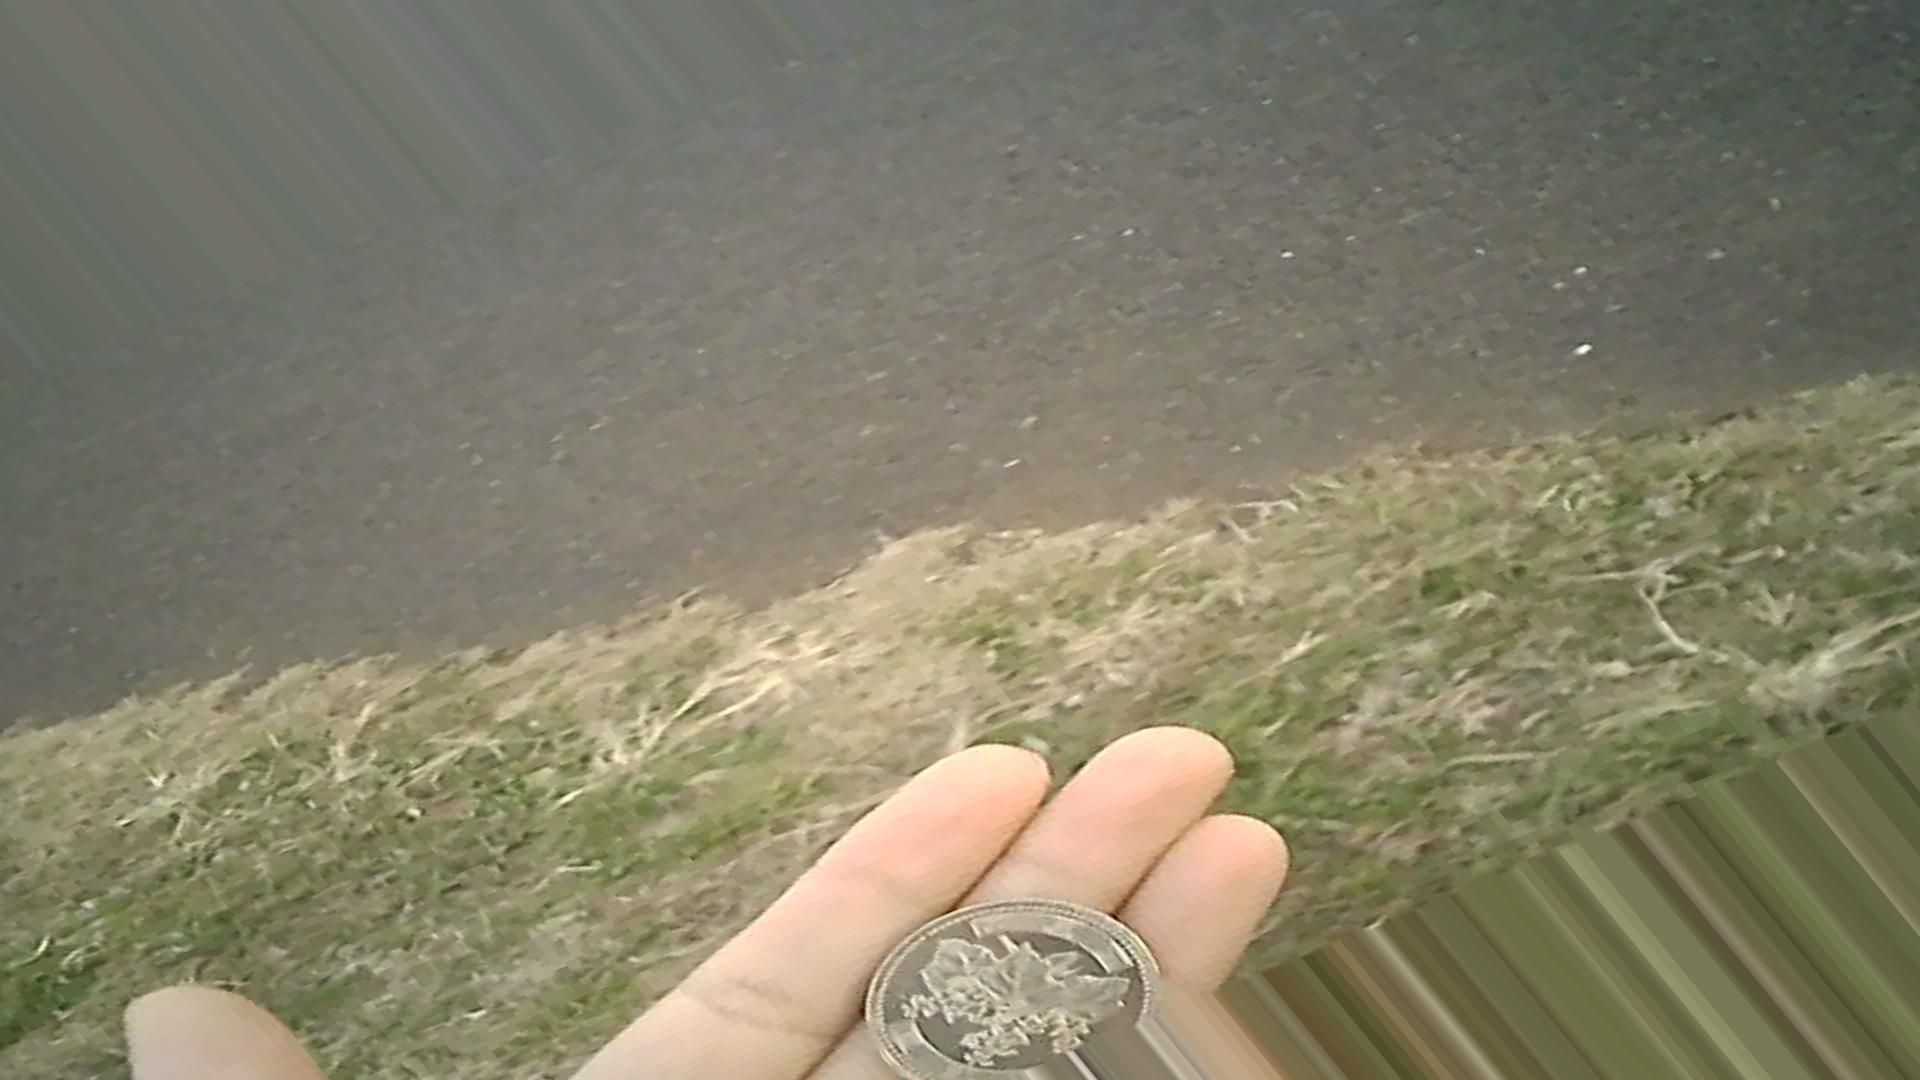500 Yen: (857, 884, 1153, 1079)
